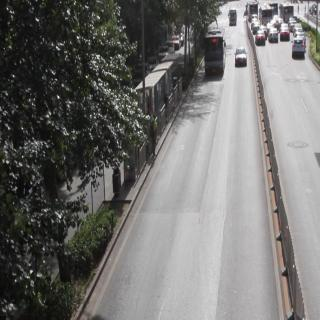BigCar: (201, 23, 227, 83), (228, 5, 240, 26), (247, 0, 258, 20)
Car: (278, 0, 296, 25), (291, 32, 305, 64), (234, 43, 249, 71), (259, 3, 273, 28), (255, 28, 267, 48), (280, 22, 290, 42), (291, 20, 303, 36), (267, 26, 277, 44), (251, 18, 260, 32)
